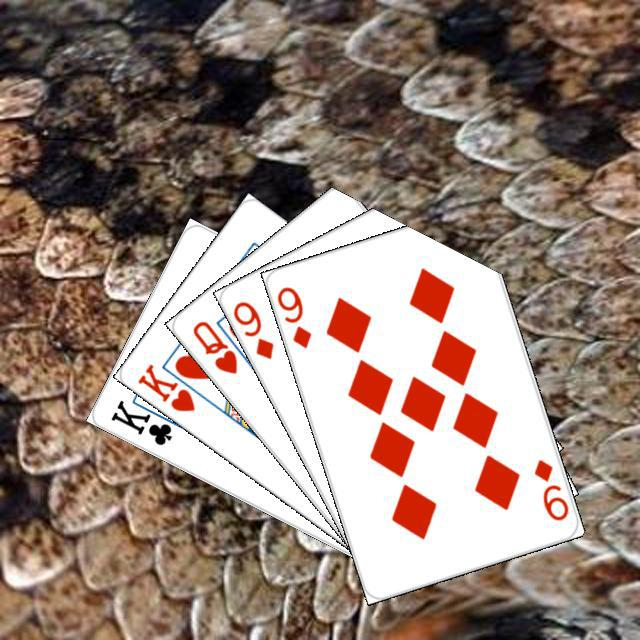9d: (228, 296, 276, 361), (528, 454, 571, 523), (272, 281, 313, 350)
Kc: (106, 394, 187, 448)
Kh: (132, 357, 211, 414)
Qh: (187, 316, 240, 376)
